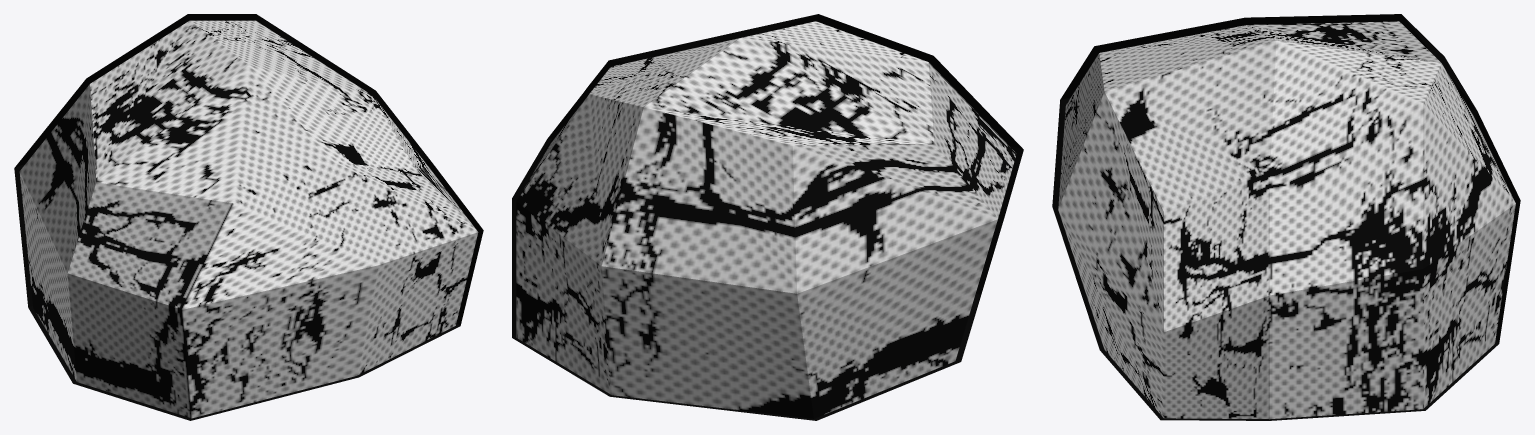
The model's file is Rock_Art.fbx.
The picture shows the model from 3 angles, left to right: view 1: azimuth 30°, elevation 25°; view 2: azimuth 150°, elevation 25°; view 3: azimuth 270°, elevation 25°; orthographic projection. The views are drawn at different scales.
Visible parts, largest first — view 1: Rock_Art; view 2: Rock_Art; view 3: Rock_Art.
Boxes of the visible parts, x1=… form: Rock_Art: x1=14, y1=14, x2=483, y2=420; Rock_Art: x1=512, y1=14, x2=1023, y2=420; Rock_Art: x1=1052, y1=14, x2=1520, y2=420.
Size of the model in its own units: 4.03 by 2.59 by 3.68.
